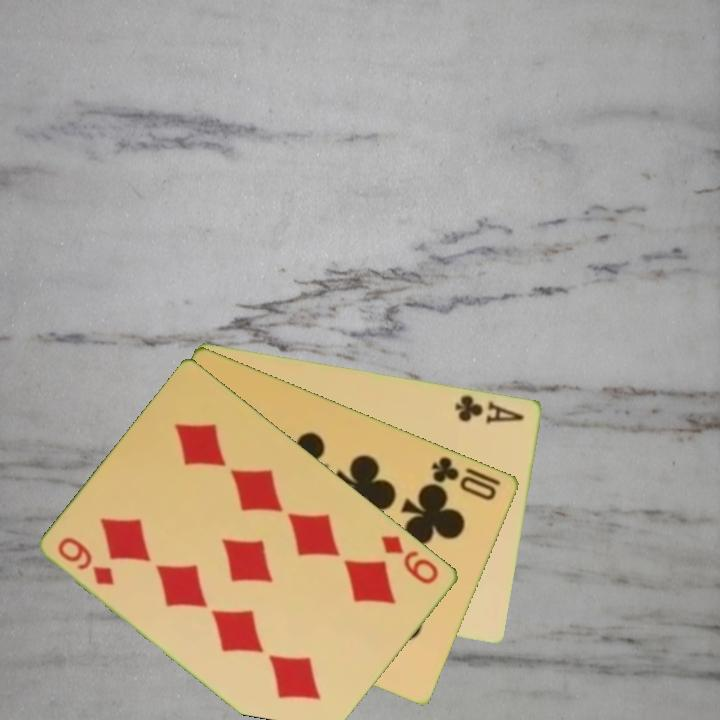10c: (428, 452, 500, 503)
9d: (377, 531, 442, 588), (55, 533, 118, 589)
Ac: (451, 391, 527, 427)
